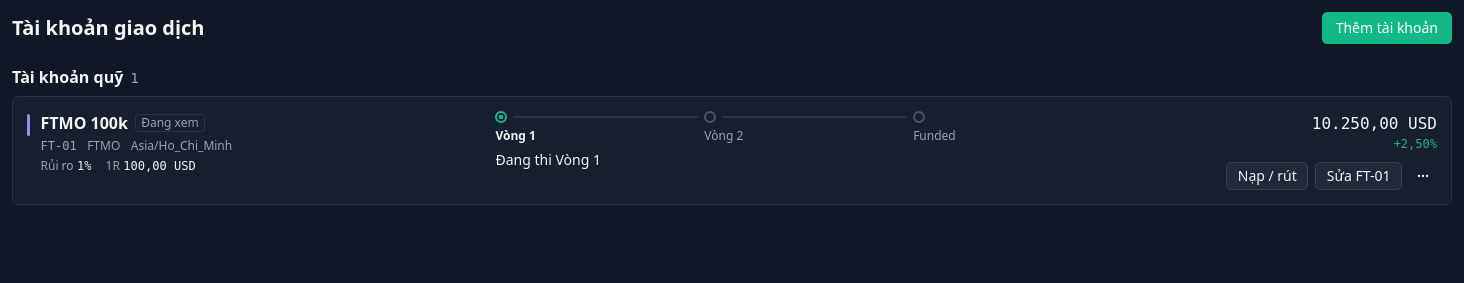
it: mark passed sends exactly one key and the row updates
Click the button named "Cập nhật vòng thi FT-01" at (1423, 176), box left=1409, top=162, right=1437, bottom=190
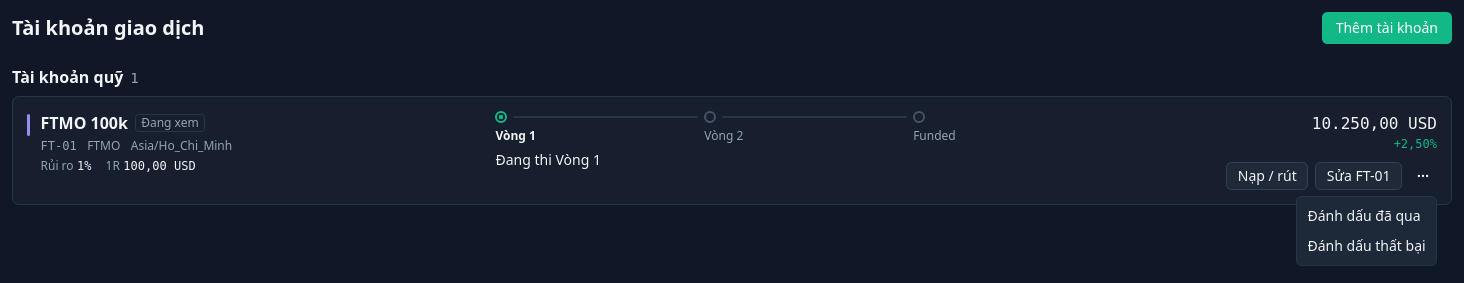
Click the menu item "Đánh dấu đã qua" at (1367, 216), box left=1300, top=200, right=1433, bottom=231
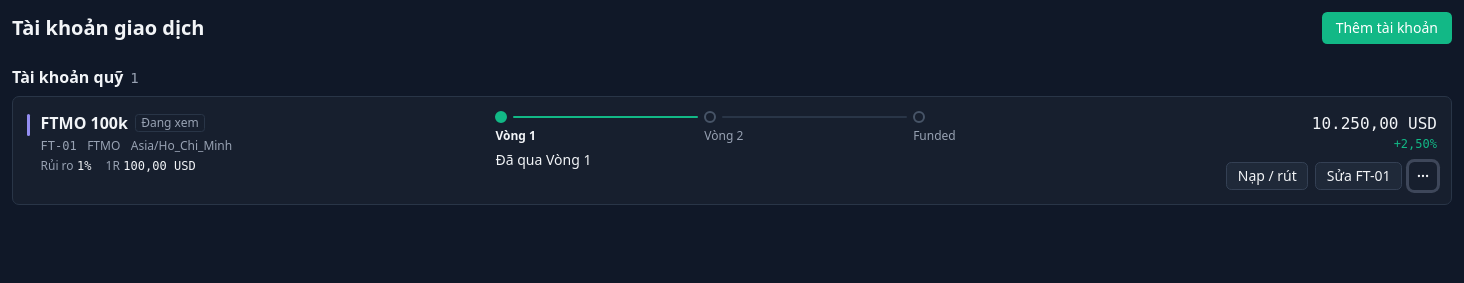
Expected: the text "Đã qua Vòng 1" is shown, left=496, top=150, right=592, bottom=169
